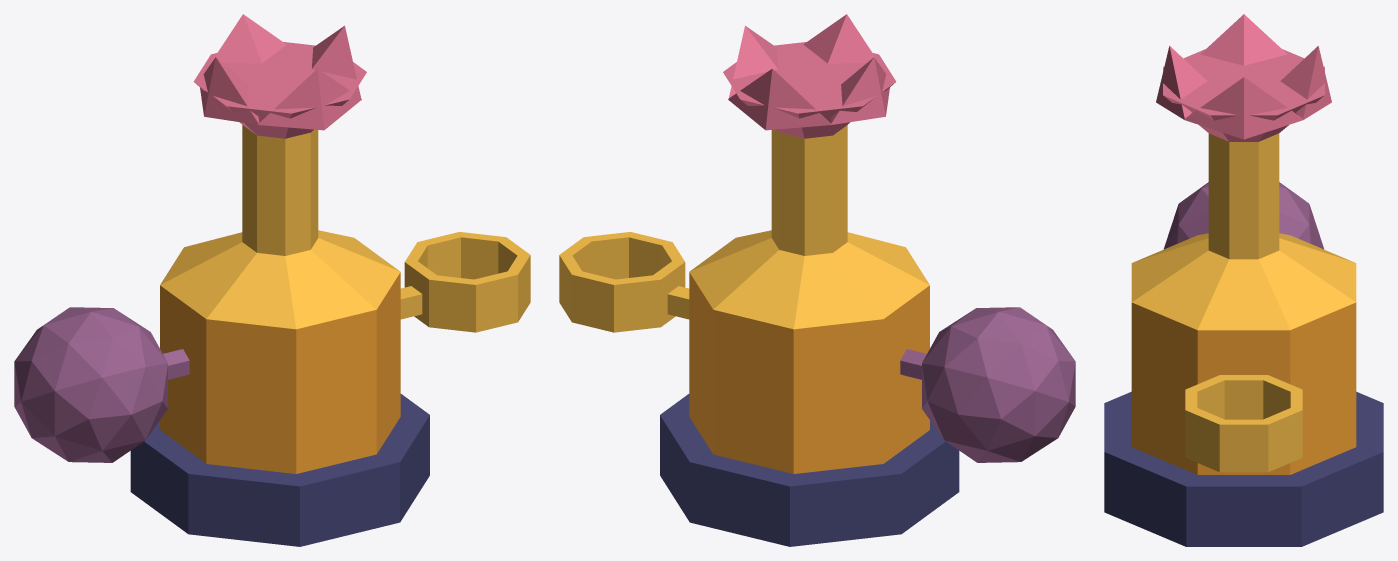
The model's file is puffer.glb.
3 renders of one model, left to right at view 1: azimuth 30°, elevation 25°; view 2: azimuth 150°, elevation 25°; view 3: azimuth 270°, elevation 25°, orthographic.
Visible parts, largest first — view 1: Drum, Plinth, Bulb, Lid, Mouth, Cup, Barrel, Arm; view 2: Drum, Plinth, Bulb, Lid, Mouth, Cup, Barrel, Arm; view 3: Plinth, Drum, Lid, Mouth, Cup, Barrel, Bulb.
Boxes of the visible parts, x1,y1,x2,y2 form: Drum: [160, 272, 400, 473]; Plinth: [130, 394, 429, 546]; Bulb: [14, 307, 167, 462]; Lid: [160, 230, 400, 329]; Mouth: [193, 14, 366, 138]; Cup: [404, 232, 530, 332]; Barrel: [242, 125, 318, 255]; Arm: [400, 286, 422, 319]; Drum: [689, 272, 929, 473]; Plinth: [660, 394, 959, 546]; Bulb: [922, 307, 1075, 462]; Lid: [689, 230, 929, 329]; Mouth: [723, 14, 896, 138]; Cup: [559, 232, 685, 332]; Barrel: [771, 125, 847, 255]; Arm: [667, 286, 689, 319]; Plinth: [1104, 391, 1383, 546]; Drum: [1131, 302, 1356, 474]; Lid: [1131, 233, 1356, 330]; Mouth: [1156, 14, 1331, 141]; Cup: [1185, 375, 1302, 472]; Barrel: [1208, 133, 1279, 259]; Bulb: [1163, 182, 1324, 249].
Bounding box in the file's own units: 2.84 × 2.41 × 1.38.
